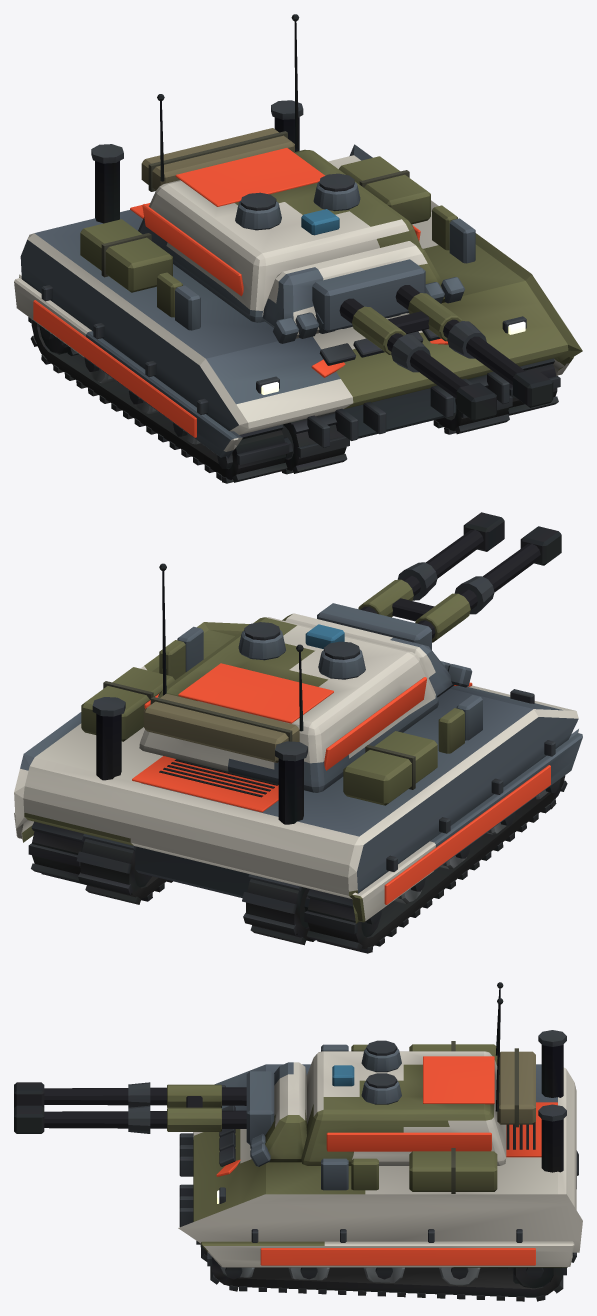
Rendered from jotun.glb.
The picture shows the model from 3 angles, top to bottom: view 1: azimuth 30°, elevation 25°; view 2: azimuth 150°, elevation 25°; view 3: azimuth 270°, elevation 25°; orthographic projection. The views are drawn at different scales.
Visible parts, largest first — view 1: geo_body, geo_turret, geo_track_right, geo_barrel, geo_track_left; view 2: geo_body, geo_turret, geo_track_right, geo_barrel, geo_track_left; view 3: geo_body, geo_turret, geo_barrel, geo_track_left.
Boxes of the visible parts, x1,y1,x2,y2 form: geo_body: (14,100,582,458); geo_turret: (138,14,464,343); geo_track_right: (28,317,349,483); geo_barrel: (339,285,553,421); geo_track_left: (433,358,560,434); geo_body: (14,622,582,923); geo_turret: (139,563,472,792); geo_track_right: (242,775,567,953); geo_barrel: (358,512,561,642); geo_track_left: (28,821,172,904); geo_body: (178,1030,582,1267); geo_turret: (246,982,535,1166); geo_barrel: (14,1082,246,1133); geo_track_left: (196,1241,576,1301).
Size of the model in its own units: 6.21 by 5.31 by 10.33.
